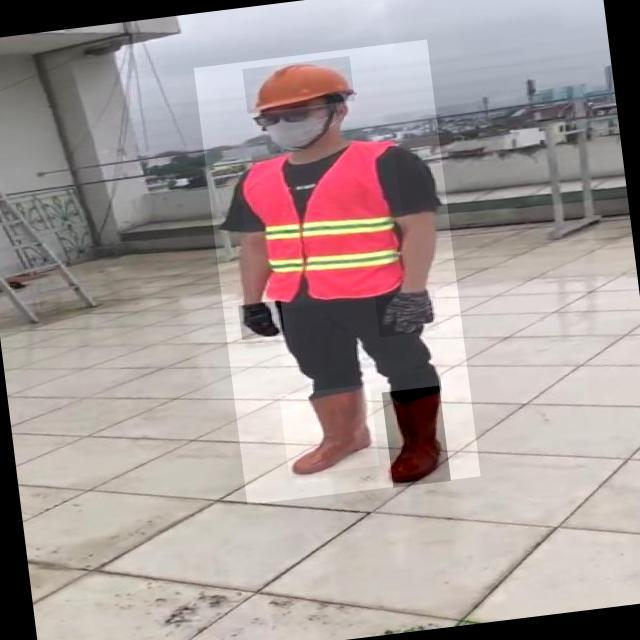Gloves: (375, 289, 440, 337), (238, 300, 285, 340)
Helmet: (242, 56, 355, 115)
Human: (194, 40, 481, 505)
Safety Boot: (279, 384, 379, 476), (382, 385, 451, 487)
Safety Vest: (236, 139, 412, 312)
